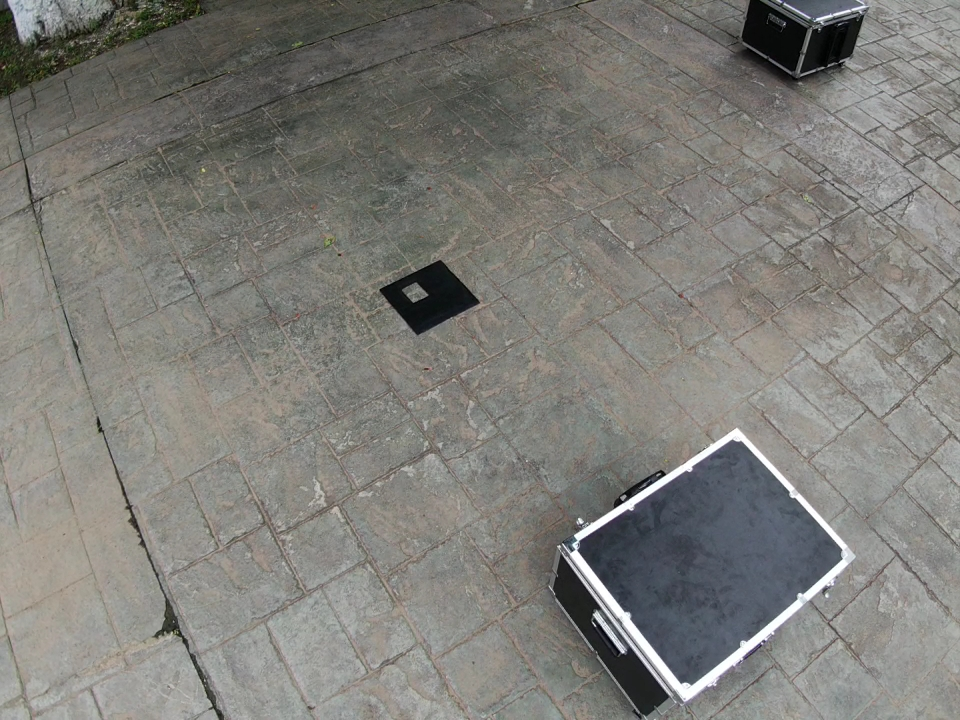box: (548, 428, 858, 719), (737, 1, 870, 78)
qrcode: (379, 260, 481, 334)
